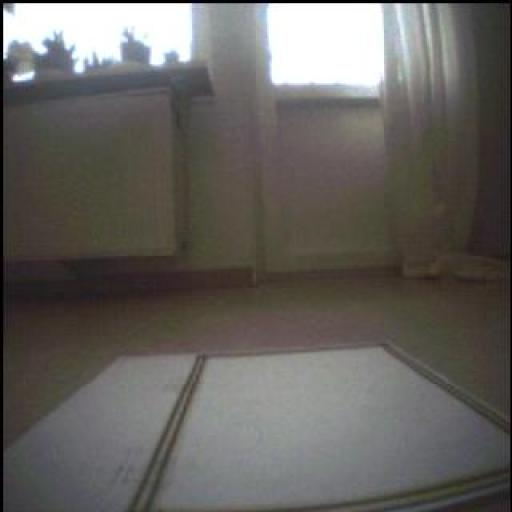Pad: (6, 345, 511, 512)
